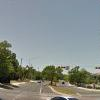Tree: (23, 51, 98, 91)
